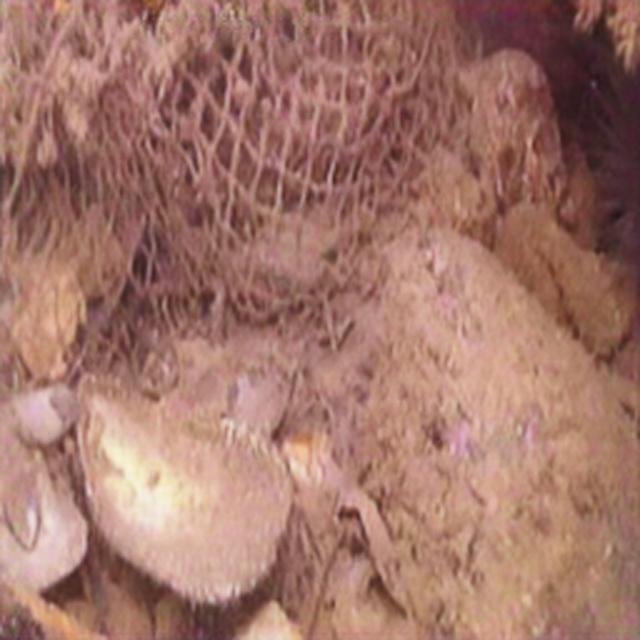mine: (0, 0, 460, 389)
